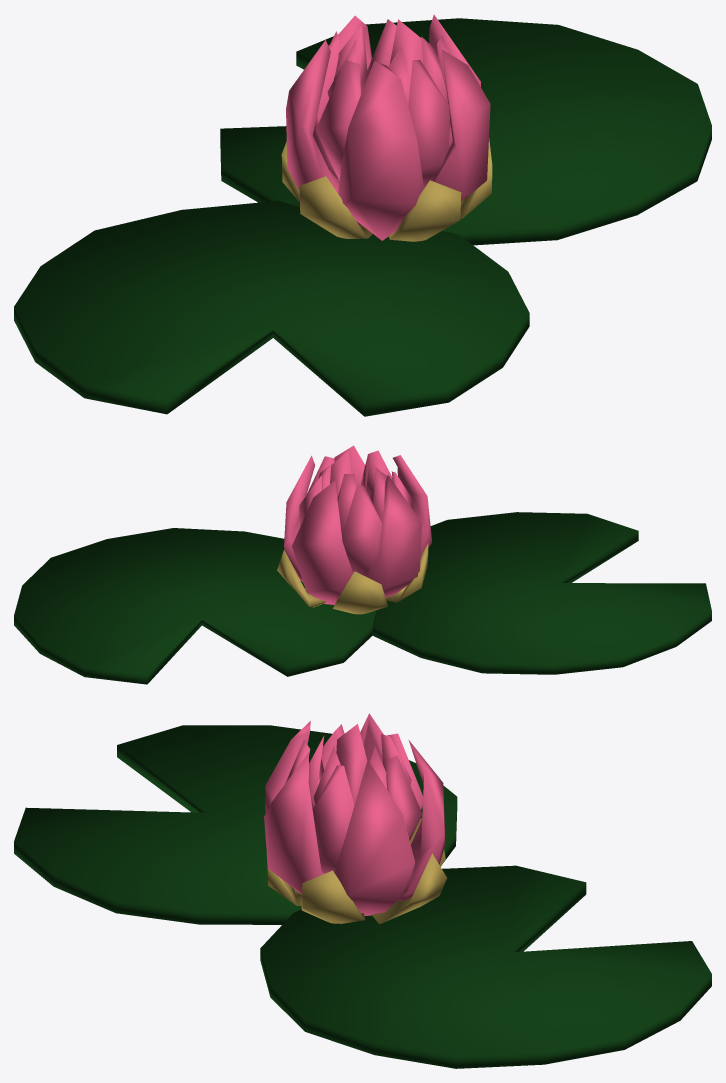
File: LotusFechado.fbx
The picture shows the model from 3 angles, top to bottom: view 1: azimuth 30°, elevation 25°; view 2: azimuth 150°, elevation 25°; view 3: azimuth 270°, elevation 25°; orthographic projection. The views are drawn at different scales.
Visible parts, largest first — view 1: LotusFechada_LOD0; view 2: LotusFechada_LOD0; view 3: LotusFechada_LOD0.
Part boxes in pixels (x1,y1,x2,y2): LotusFechada_LOD0: [14, 14, 711, 416]; LotusFechada_LOD0: [14, 445, 711, 684]; LotusFechada_LOD0: [14, 713, 711, 1068].
Size of what is drawn, in the model's own units: 122 by 29.92 by 109.
